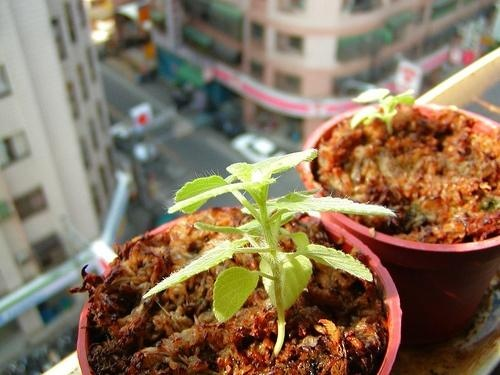pottedplant: (78, 150, 402, 373), (304, 90, 500, 340)
